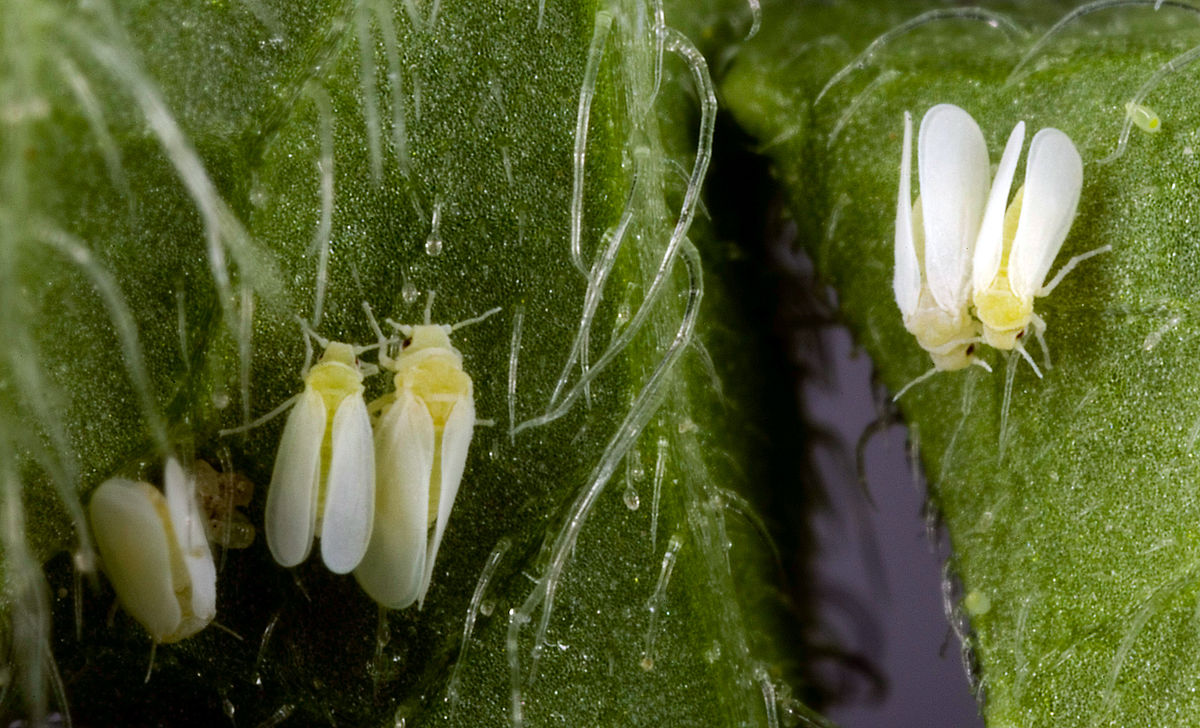Tobacco Whitefly: (964, 66, 1111, 427), (78, 414, 258, 661), (362, 295, 483, 633), (270, 312, 361, 579), (914, 96, 968, 390)
